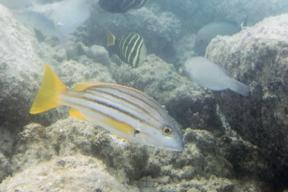Lutjanidae -Snappers-: (23, 54, 190, 157)
Pomacanthidae -Angelfishes-: (82, 0, 161, 18)
